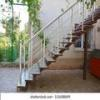stairs: (47, 20, 92, 63), (16, 50, 52, 94)
